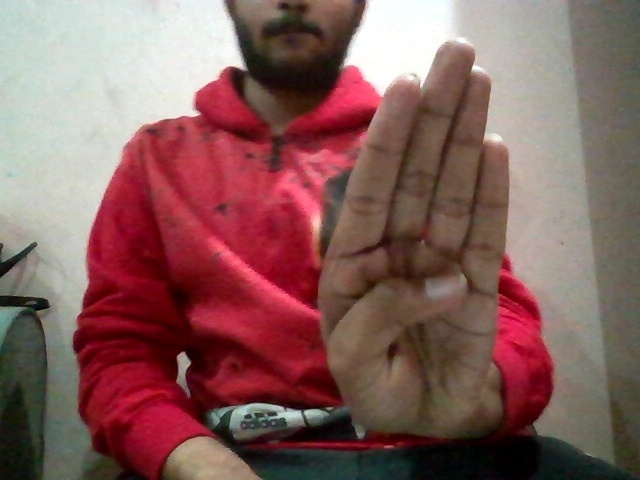B: (307, 28, 548, 441)
